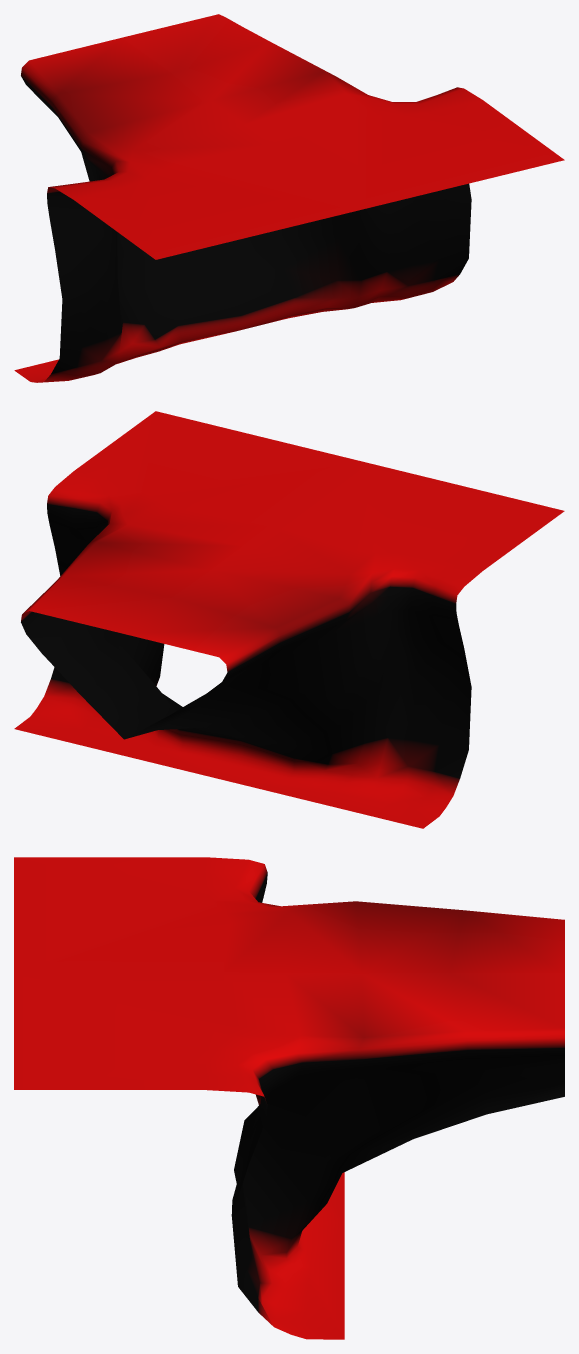
File: CrossingCliff02C 1M Background.fbx
3 views of the same model, one above another, from view 1: azimuth 30°, elevation 25°; view 2: azimuth 150°, elevation 25°; view 3: azimuth 270°, elevation 25° (orthographic). The views are drawn at different scales.
Parts seen in each view (by area): view 1: CrossingCliff02C 1M Background; view 2: CrossingCliff02C 1M Background; view 3: CrossingCliff02C 1M Background.
Boxes of the visible parts, box(x1,y1,x2,y2) form: CrossingCliff02C 1M Background: box(14, 14, 564, 382); CrossingCliff02C 1M Background: box(14, 411, 564, 828); CrossingCliff02C 1M Background: box(14, 857, 564, 1339).
Size of the model in its own units: 2 by 1.01 by 2.
